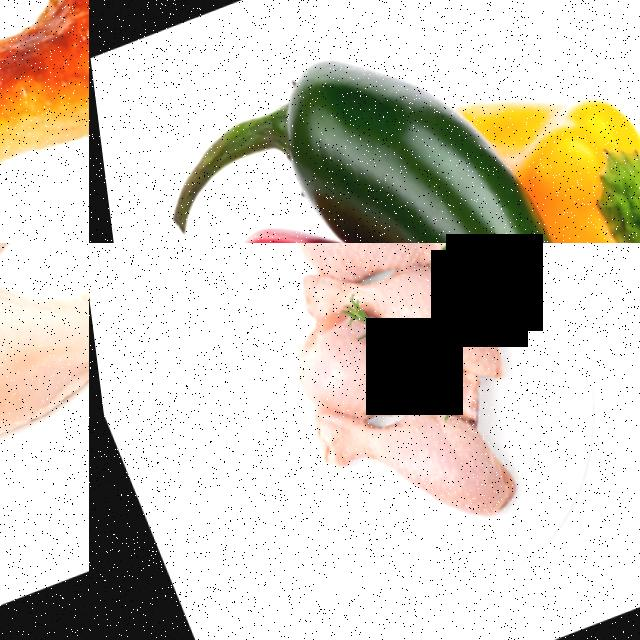chicken breast: (0, 243, 89, 583), (0, 243, 89, 327)
chicken thigh: (291, 378, 513, 582), (263, 285, 470, 466), (0, 0, 89, 243), (257, 243, 481, 309)
